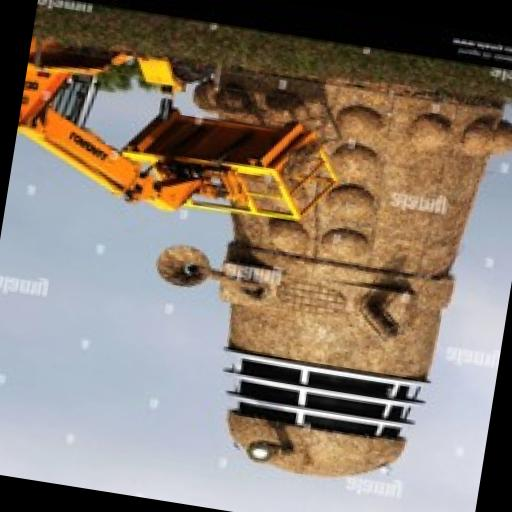dalek: (115, 48, 512, 500)
